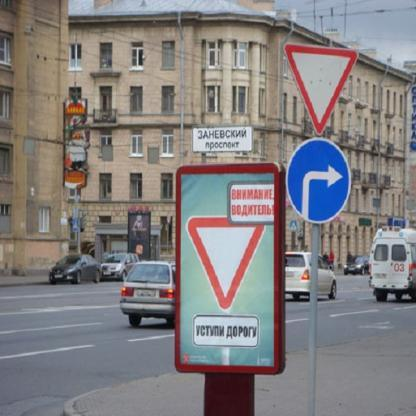road_sign: (188, 216, 264, 309), (284, 44, 357, 135), (286, 137, 351, 223)
